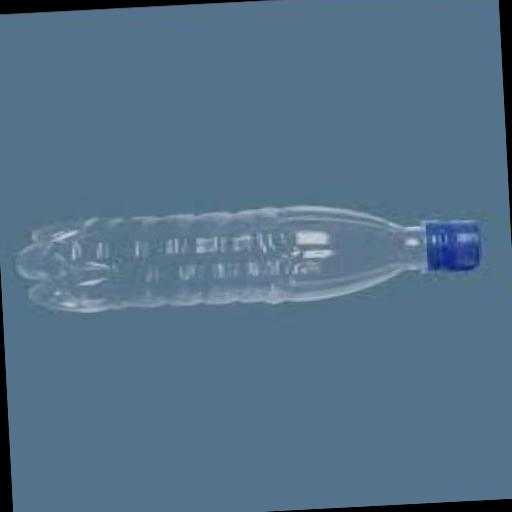plastic: (20, 194, 486, 313), (425, 214, 482, 272)
